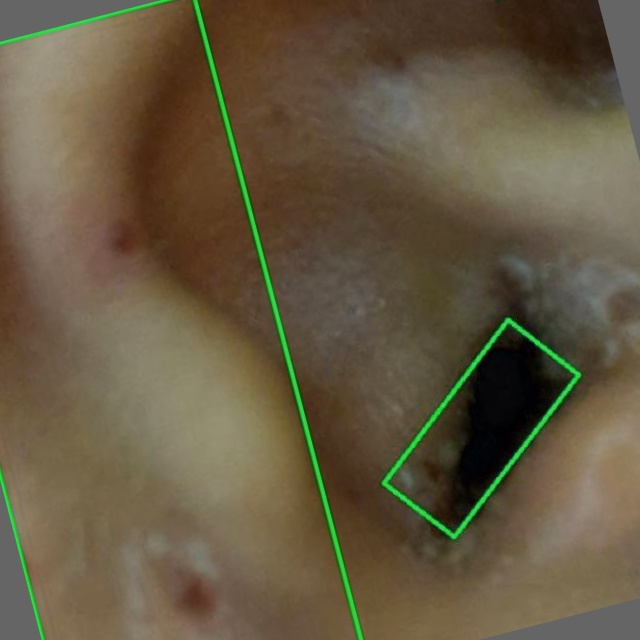Contact Dermatitis: (0, 0, 362, 639), (384, 320, 579, 537)
